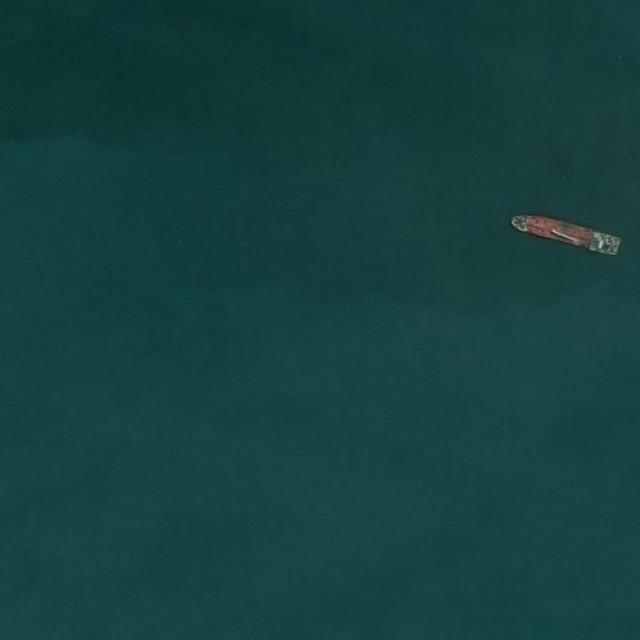Oil Tanker: (505, 209, 624, 260)
